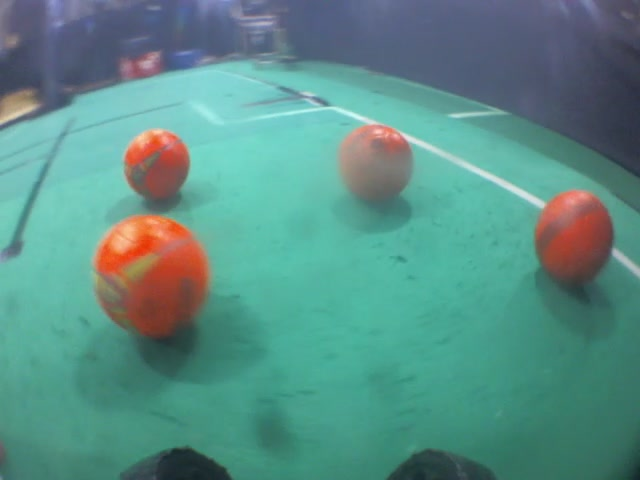ball: (85, 212, 213, 347), (529, 181, 625, 292), (331, 123, 422, 205), (116, 125, 195, 207)
